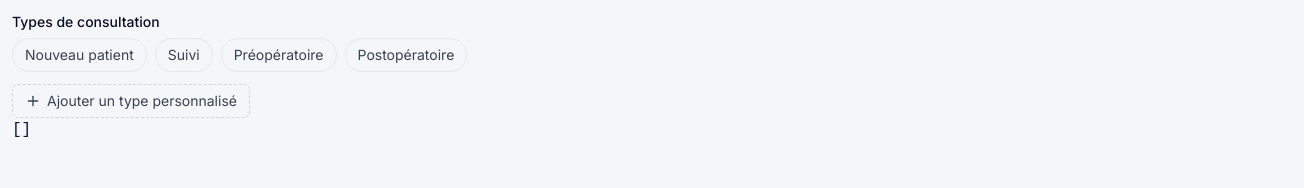
Test: ConsultationTypesEditor — i18n parity › localizes the SSN validation error in French
Click the button "Ajouter un type personnalisé".
click(131, 101)  # box [12,84,250,118]
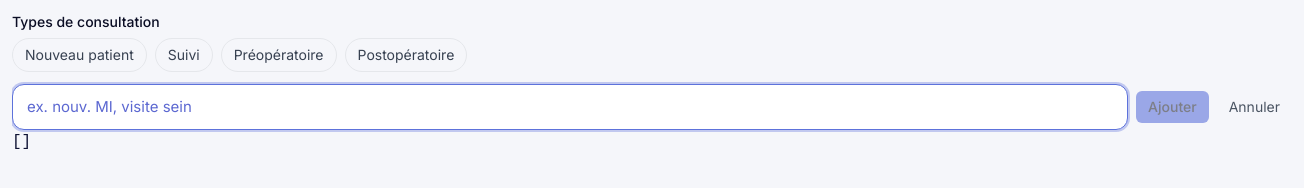
Type "123456789" into the field named "nom du type de consultation personnalisé".
click(570, 107); type("123456789")  # box [12,84,1128,130]
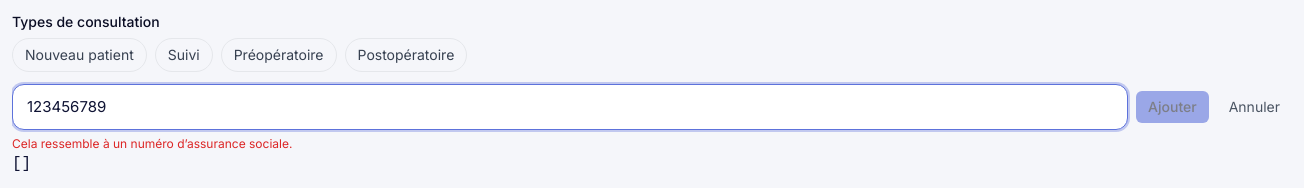
Result: the text "Cela ressemble à un numéro d’assurance sociale." is shown at [12,136,292,151]
